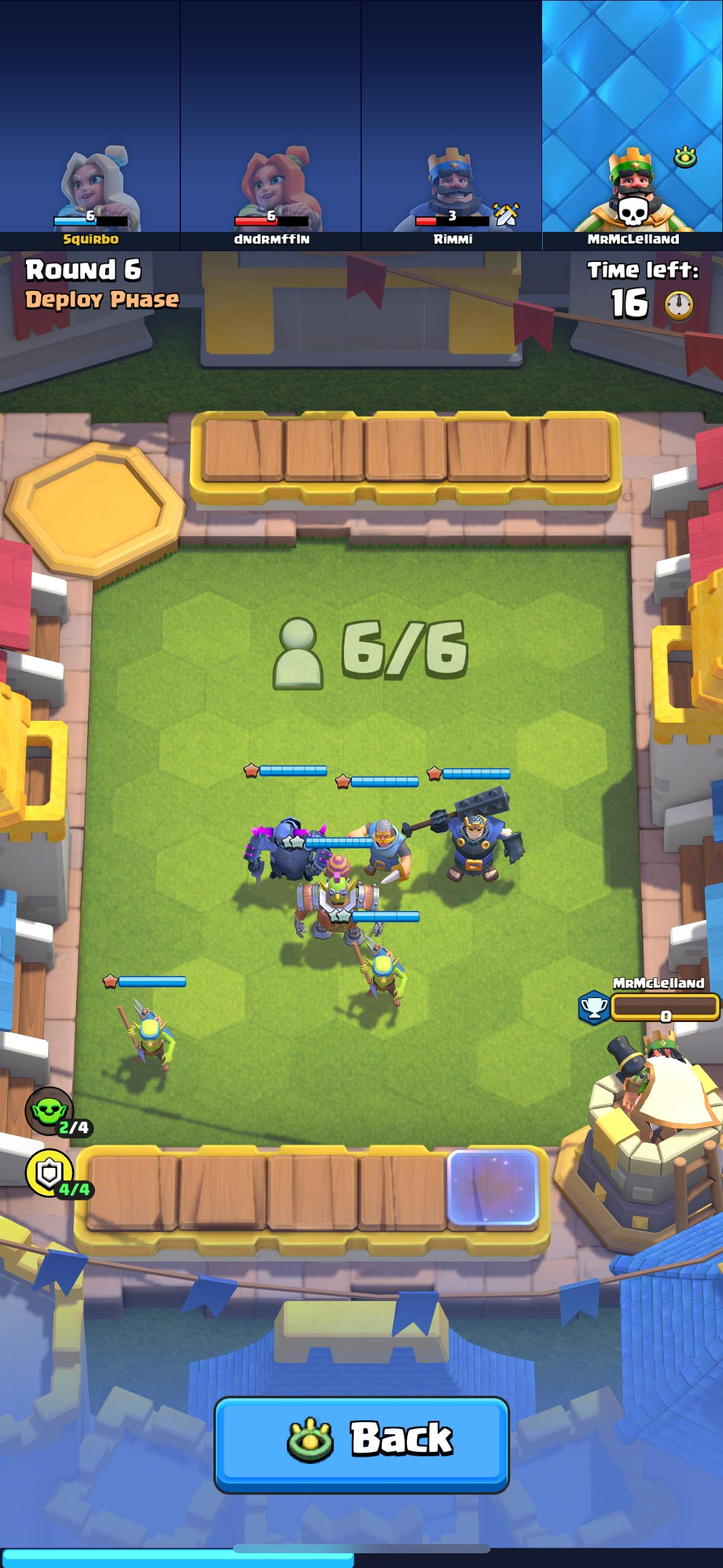king: (423, 779, 527, 894)
knight: (343, 806, 415, 886)
machine: (299, 872, 390, 949)
pekka: (244, 802, 330, 890)
spear: (343, 932, 418, 1015), (113, 995, 180, 1073)
